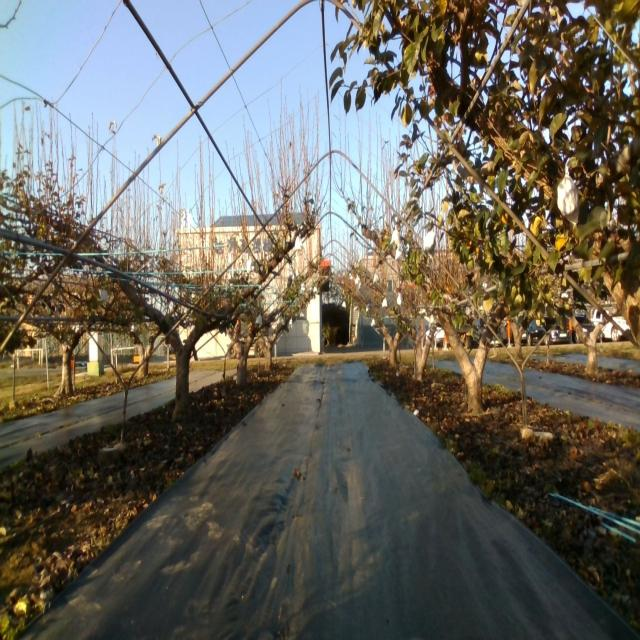pearbags: (556, 173, 578, 222), (423, 229, 436, 255)
